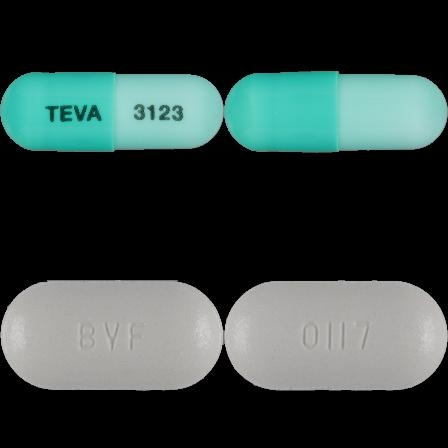43063-180: (0, 0, 224, 224)
